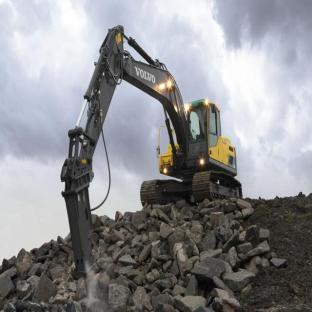ExcavationMachinery: (63, 4, 251, 250)
